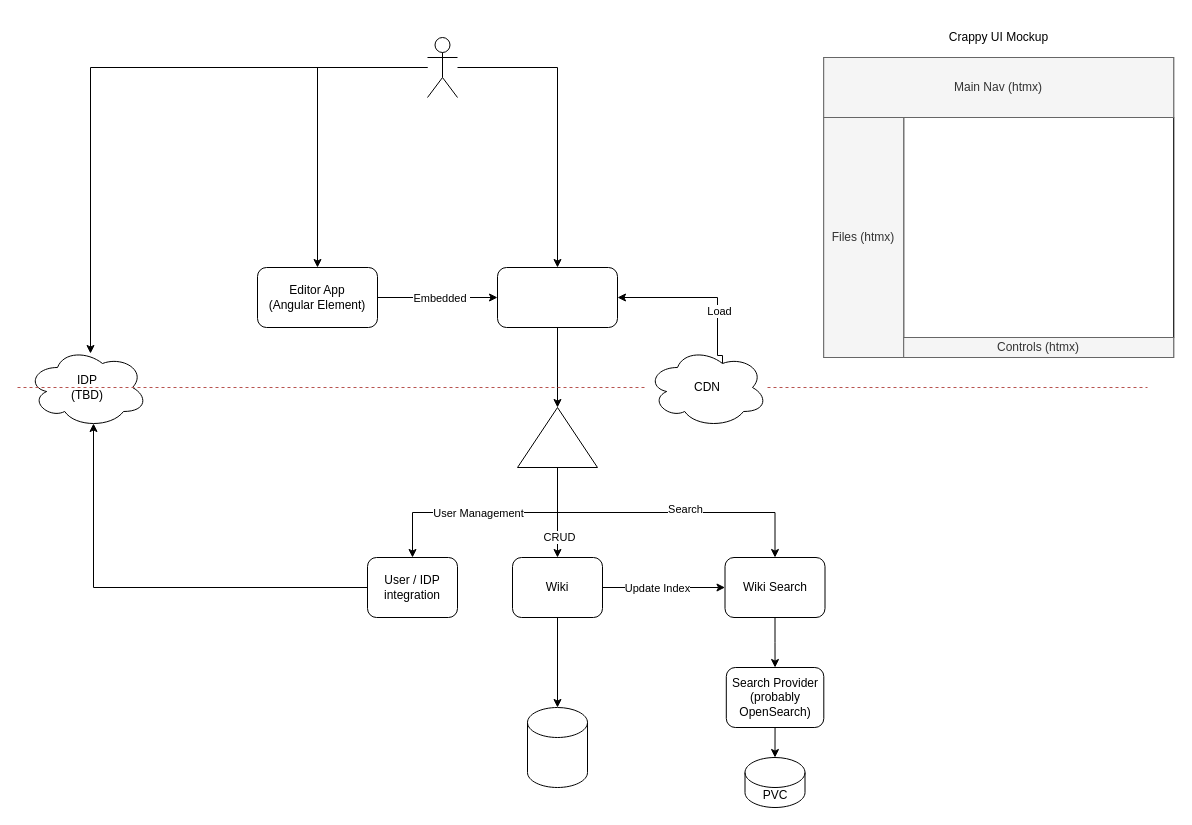
Some shapes in this 1192 by 825 pixel diagram are drawn without their labels. The box of each missing label's shape, as (x1, y1, x2, y2) in pixels:
Editor (Angular Element): (903, 116, 1174, 338)
Gateway: (516, 406, 598, 468)
Site htmx: (496, 266, 618, 328)
User: (426, 36, 458, 98)
Wiki DB: (526, 706, 588, 788)
